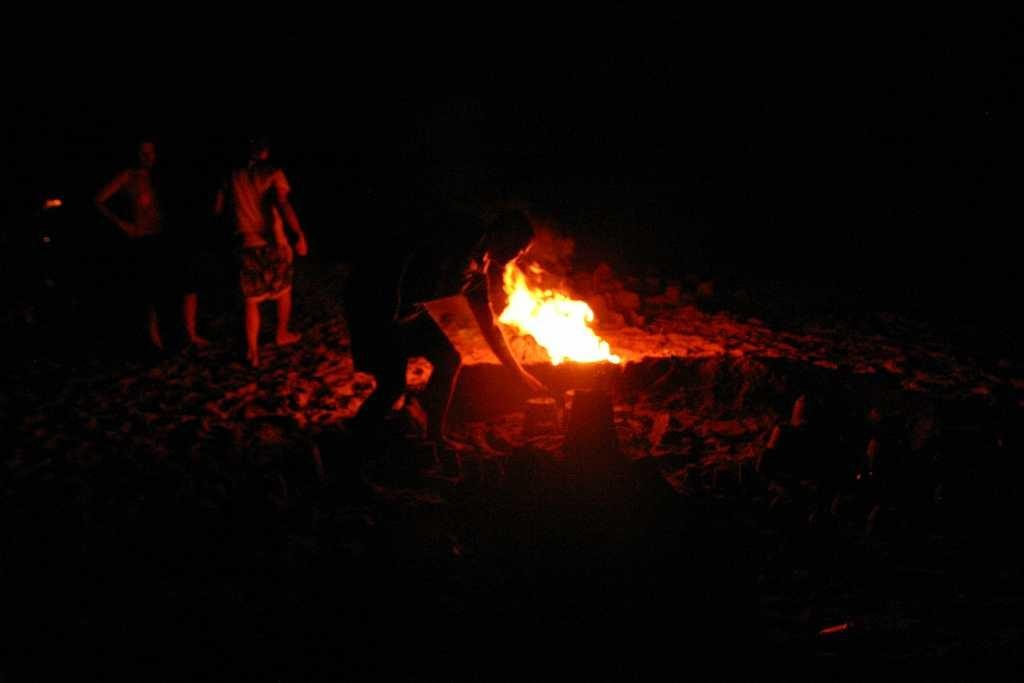fire: (525, 300, 613, 357)
